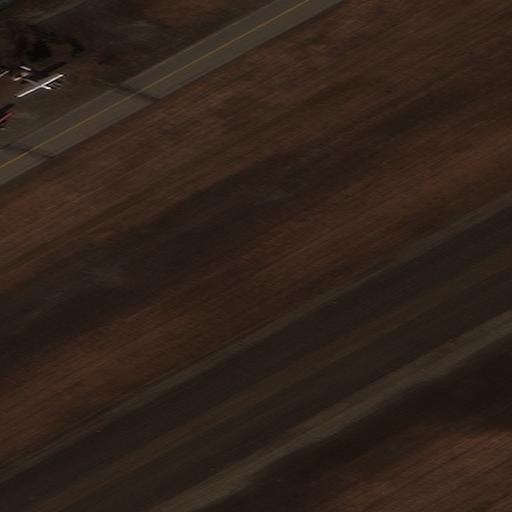Small Civil Transport: (15, 74, 65, 98)
